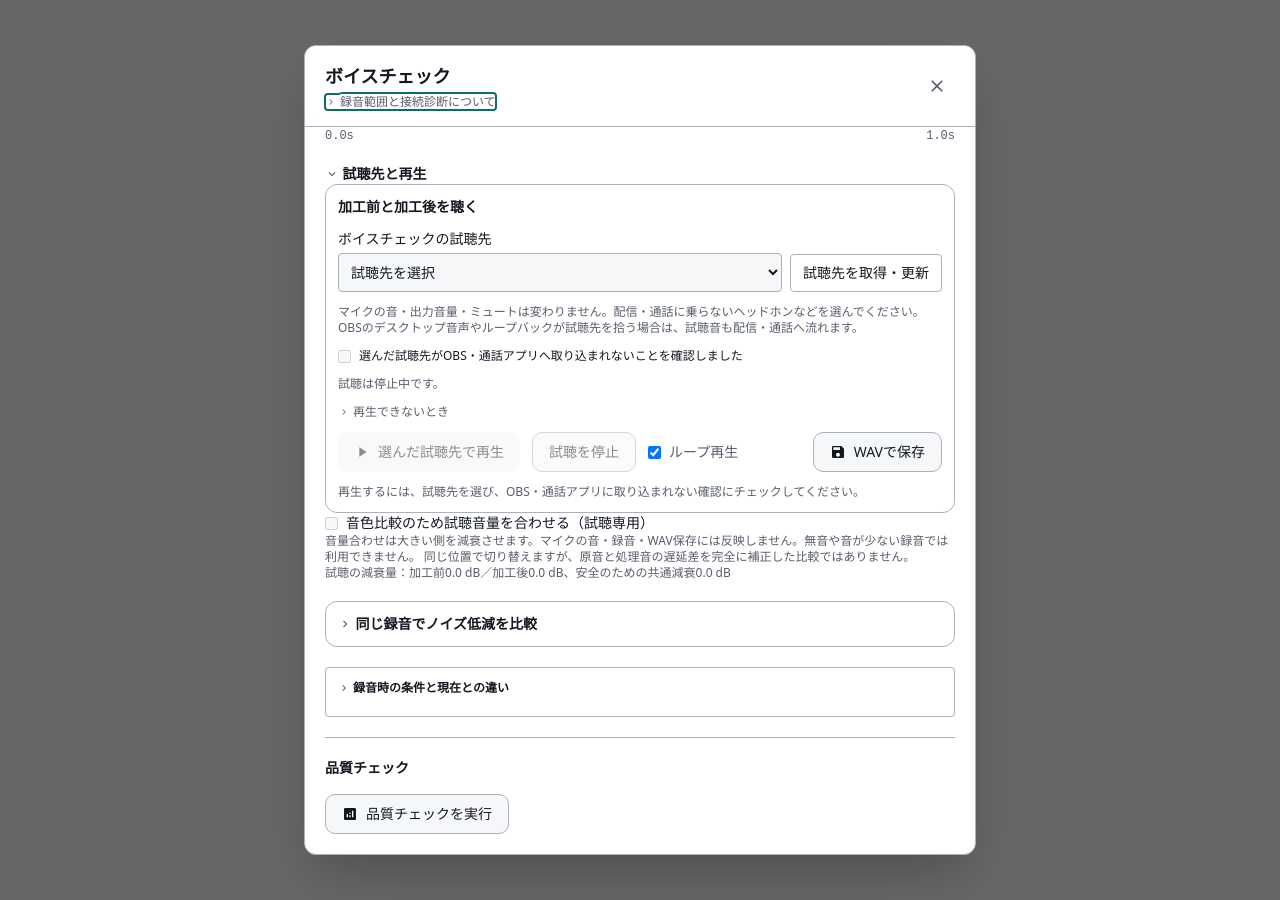
Test: 録音前は録音に絞り、完了後に再生と必要時に開く比較を表示する
(page scrolled)
expect the button "選んだ試聴先で再生" is shown: met, box 338,432 -> 520,472
expect the checkbox labelled "選んだ試聴先がOBS・通話アプリへ取り込まれないことを確認しました" is shown: met, box 338,350 -> 351,363
What coordinates should you click on to do the following:
click the heading "同じ録音でノイズ低減を比較"
I would click on:
 (446, 624)
Its box is 356,614 -> 537,633.
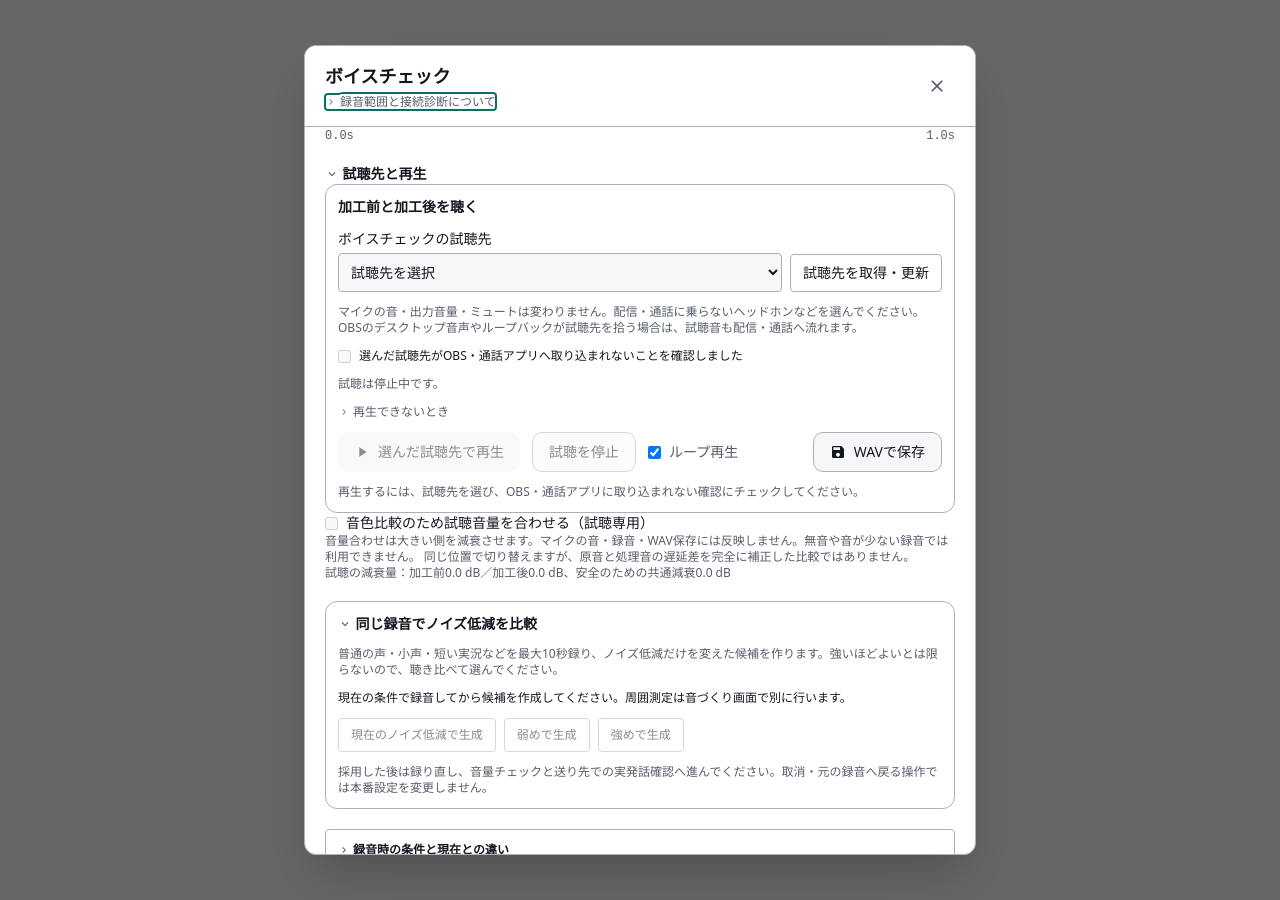
expect the button "弱めで生成" is shown: met, box 504,718 -> 590,752
